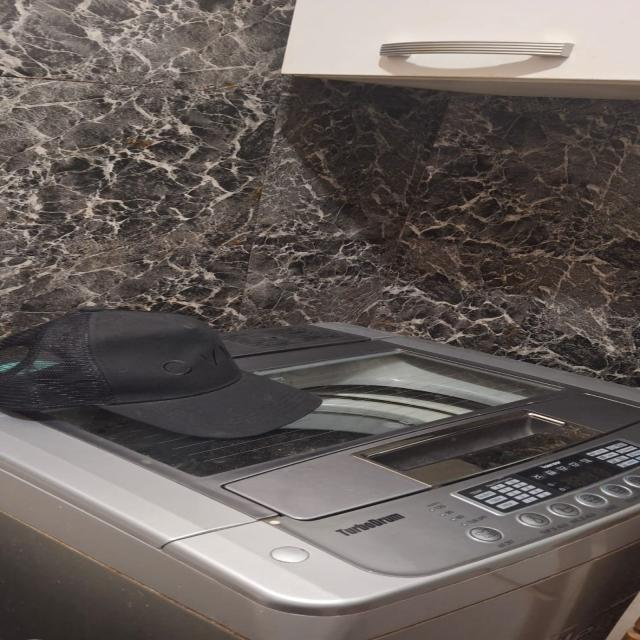Gorra: (2, 309, 324, 440)
